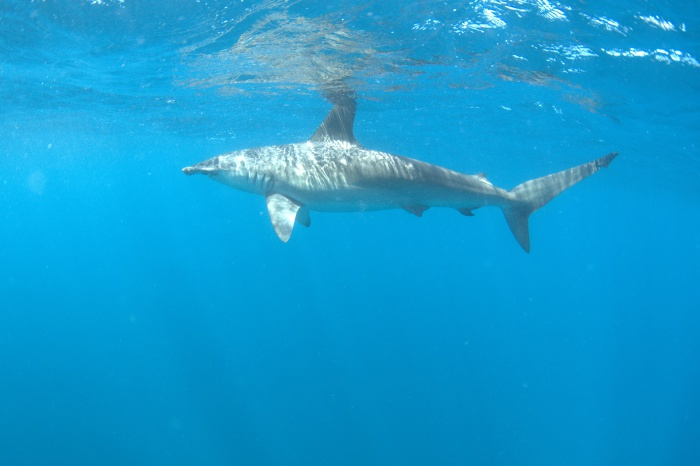Hammer: (182, 93, 633, 269)
